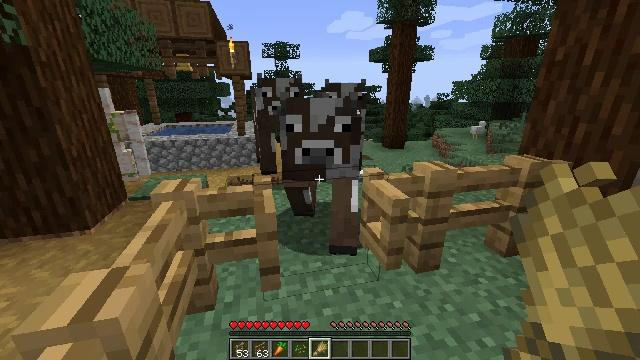chicken: (470, 121, 488, 140)
cow: (282, 95, 359, 253), (311, 79, 367, 167), (256, 72, 303, 173)
